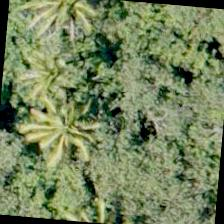Kelapa_Sawit: (10, 78, 108, 176), (3, 24, 101, 122), (31, 0, 126, 55)
